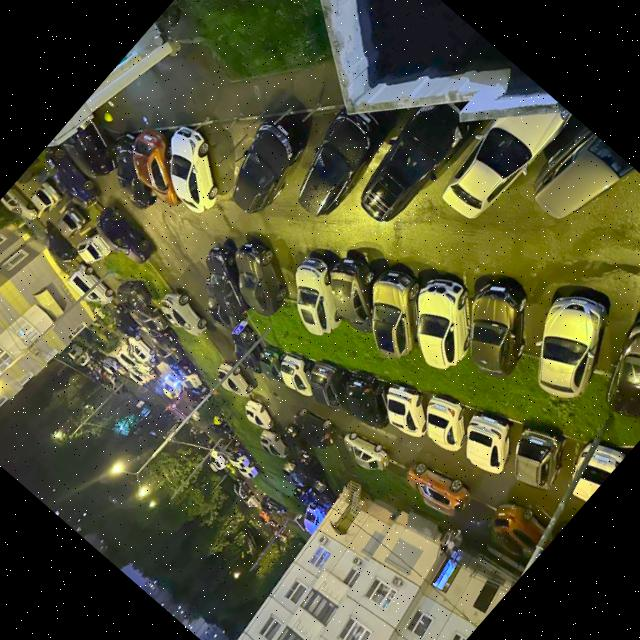car: (438, 109, 572, 225), (356, 104, 478, 227), (294, 113, 390, 220), (534, 130, 636, 222), (227, 117, 305, 214), (538, 297, 607, 400), (469, 282, 526, 380), (416, 279, 471, 370), (169, 129, 219, 218), (373, 272, 420, 361), (45, 142, 104, 209), (234, 243, 287, 317), (603, 314, 640, 418), (294, 257, 343, 335), (95, 204, 156, 265), (405, 461, 470, 517), (112, 133, 156, 214), (133, 133, 181, 206), (489, 505, 557, 555), (205, 245, 251, 318), (513, 426, 563, 491), (333, 258, 374, 335), (570, 443, 624, 501), (62, 121, 117, 177), (342, 369, 389, 429), (465, 412, 510, 474), (159, 291, 209, 339), (204, 278, 245, 332), (66, 263, 115, 305), (427, 398, 465, 452), (310, 361, 349, 413), (386, 387, 426, 437), (342, 433, 390, 472), (293, 413, 337, 450), (40, 225, 80, 265), (233, 331, 264, 378), (219, 362, 258, 397), (0, 187, 41, 220), (281, 354, 313, 395), (28, 179, 63, 214), (114, 282, 153, 312), (111, 305, 143, 340), (76, 235, 113, 264), (129, 305, 168, 332), (259, 428, 292, 458), (57, 209, 87, 240), (246, 400, 274, 430), (303, 505, 327, 540), (260, 348, 283, 382), (146, 326, 180, 347), (281, 428, 309, 453), (151, 344, 182, 366), (128, 338, 154, 363), (167, 361, 196, 378), (225, 453, 252, 468)
